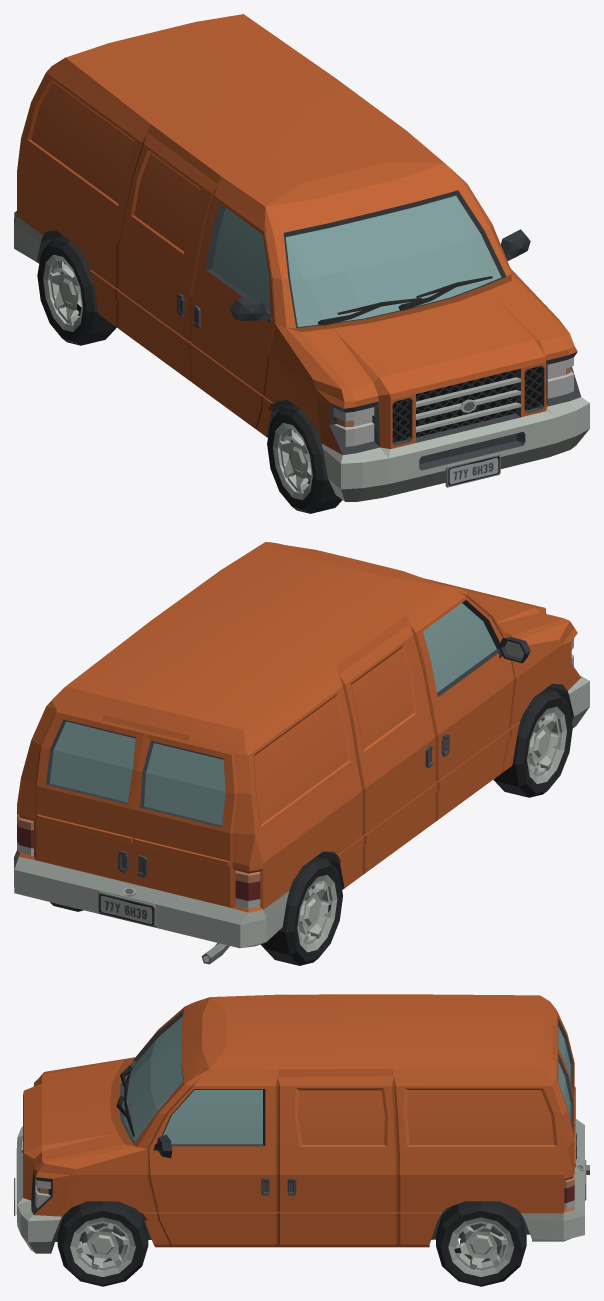
Rendered from city_van.glb.
The picture shows the model from 3 angles, top to bottom: view 1: azimuth 30°, elevation 25°; view 2: azimuth 150°, elevation 25°; view 3: azimuth 270°, elevation 25°; orthographic projection. The views are drawn at different scales.
Parts seen in each view (by area): view 1: SM_Veh_Car_Van_01_PolygonCity_Texture_01_B_0, SM_Veh_Car_Van_Glass_PolygonCity_Glass_Veh_Mat_0, SM_Veh_Car_Van_Wheel_rr_PolygonCity_Mat_01_A_0, SM_Veh_Car_Van_Wheel_fr_PolygonCity_Mat_01_A_0, SM_Veh_Car_Van_Plates_PolygonCity_Mat_01_A_0; view 2: SM_Veh_Car_Van_01_PolygonCity_Texture_01_B_0, SM_Veh_Car_Van_Door_r_PolygonCity_Mat_01_A_0, SM_Veh_Car_Van_Door_l_PolygonCity_Mat_01_A_0, SM_Veh_Car_Van_Wheel_rr_PolygonCity_Mat_01_A_0, SM_Veh_Car_Van_Wheel_fr_PolygonCity_Mat_01_A_0, SM_Veh_Car_Van_Door_r_Glass_PolygonCity_Glass_Veh_Mat_0, SM_Veh_Car_Van_Door_l_Glass_PolygonCity_Glass_Veh_Mat_0, SM_Veh_Car_Van_Glass_PolygonCity_Glass_Veh_Mat_0, SM_Veh_Car_Van_Plates_PolygonCity_Mat_01_A_0; view 3: SM_Veh_Car_Van_01_PolygonCity_Texture_01_B_0, SM_Veh_Car_Van_Glass_PolygonCity_Glass_Veh_Mat_0, SM_Veh_Car_Van_Wheel_rl_PolygonCity_Mat_01_A_0, SM_Veh_Car_Van_Wheel_fl_PolygonCity_Mat_01_A_0, SM_Veh_Car_Van_Door_l_PolygonCity_Mat_01_A_0, SM_Veh_Car_Van_Door_r_PolygonCity_Mat_01_A_0.
Part boxes in pixels (x1,y1,x2,y2): SM_Veh_Car_Van_01_PolygonCity_Texture_01_B_0: (14, 14, 589, 501); SM_Veh_Car_Van_Glass_PolygonCity_Glass_Veh_Mat_0: (212, 195, 501, 326); SM_Veh_Car_Van_Wheel_rr_PolygonCity_Mat_01_A_0: (37, 236, 116, 345); SM_Veh_Car_Van_Wheel_fr_PolygonCity_Mat_01_A_0: (267, 404, 342, 513); SM_Veh_Car_Van_Plates_PolygonCity_Mat_01_A_0: (445, 453, 500, 487); SM_Veh_Car_Van_01_PolygonCity_Texture_01_B_0: (14, 542, 589, 964); SM_Veh_Car_Van_Door_r_PolygonCity_Mat_01_A_0: (133, 733, 234, 905); SM_Veh_Car_Van_Door_l_PolygonCity_Mat_01_A_0: (36, 712, 143, 882); SM_Veh_Car_Van_Wheel_rr_PolygonCity_Mat_01_A_0: (260, 856, 342, 965); SM_Veh_Car_Van_Wheel_fr_PolygonCity_Mat_01_A_0: (493, 688, 572, 797); SM_Veh_Car_Van_Door_r_Glass_PolygonCity_Glass_Veh_Mat_0: (144, 743, 225, 825); SM_Veh_Car_Van_Door_l_Glass_PolygonCity_Glass_Veh_Mat_0: (49, 721, 135, 802); SM_Veh_Car_Van_Glass_PolygonCity_Glass_Veh_Mat_0: (423, 603, 496, 692); SM_Veh_Car_Van_Plates_PolygonCity_Mat_01_A_0: (98, 891, 156, 927); SM_Veh_Car_Van_01_PolygonCity_Texture_01_B_0: (16, 994, 589, 1253); SM_Veh_Car_Van_Glass_PolygonCity_Glass_Veh_Mat_0: (122, 1016, 262, 1144); SM_Veh_Car_Van_Wheel_rl_PolygonCity_Mat_01_A_0: (436, 1201, 526, 1286); SM_Veh_Car_Van_Wheel_fl_PolygonCity_Mat_01_A_0: (57, 1201, 148, 1286); SM_Veh_Car_Van_Door_l_PolygonCity_Mat_01_A_0: (557, 1046, 576, 1167); SM_Veh_Car_Van_Door_r_PolygonCity_Mat_01_A_0: (557, 1011, 576, 1140).
Bounding box in the file's own units: 2.47 × 2.03 × 5.04.
3 materials, 2 textured.
